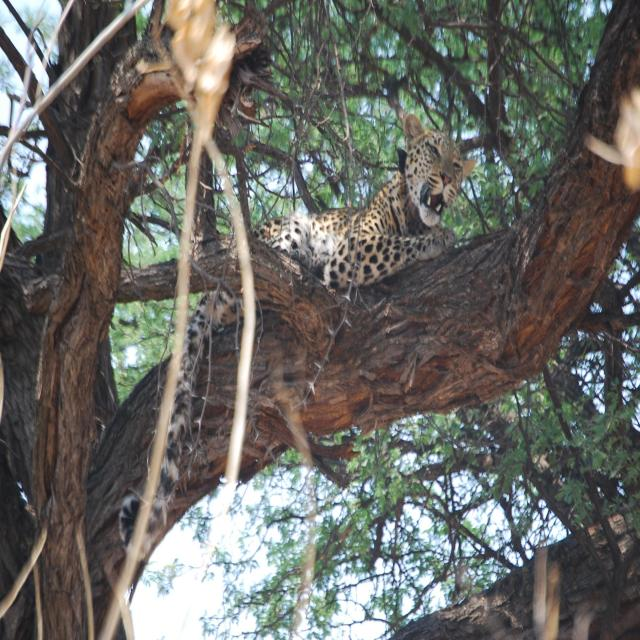Leopard: (111, 101, 468, 584)
